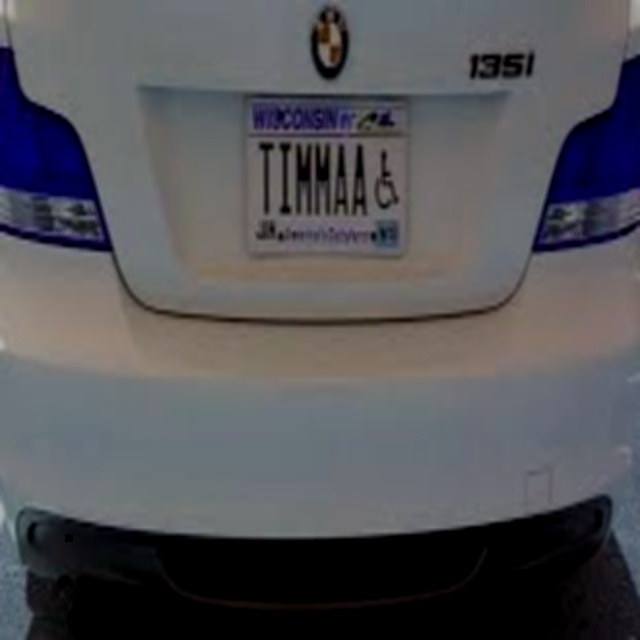ISA: (374, 151, 398, 209)
